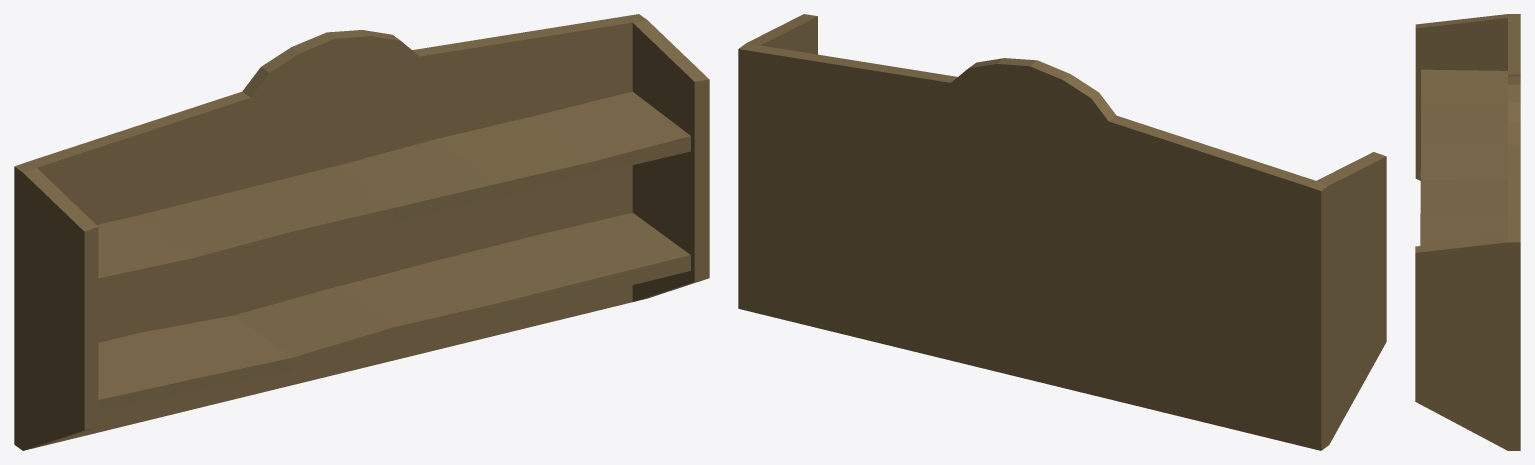
The model's file is Shelf_Wall.glb.
3 views of the same model, side by side, from view 1: azimuth 30°, elevation 25°; view 2: azimuth 150°, elevation 25°; view 3: azimuth 270°, elevation 25° (orthographic). The views are drawn at different scales.
Visible parts, largest first — view 1: Shelf_Wall.001; view 2: Shelf_Wall.001; view 3: Shelf_Wall.001.
Part boxes in pixels (x1,y1,x2,y2): Shelf_Wall.001: [14, 14, 709, 450]; Shelf_Wall.001: [738, 14, 1386, 450]; Shelf_Wall.001: [1415, 14, 1520, 450].
Bounding box in the file's own units: 1.59 × 0.8155 × 0.3096.
1 material, 1 textured.
